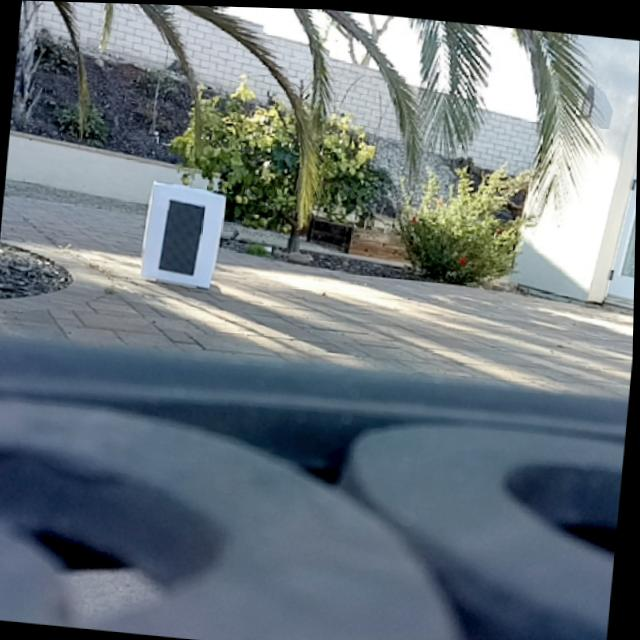led: (158, 194, 209, 277)
